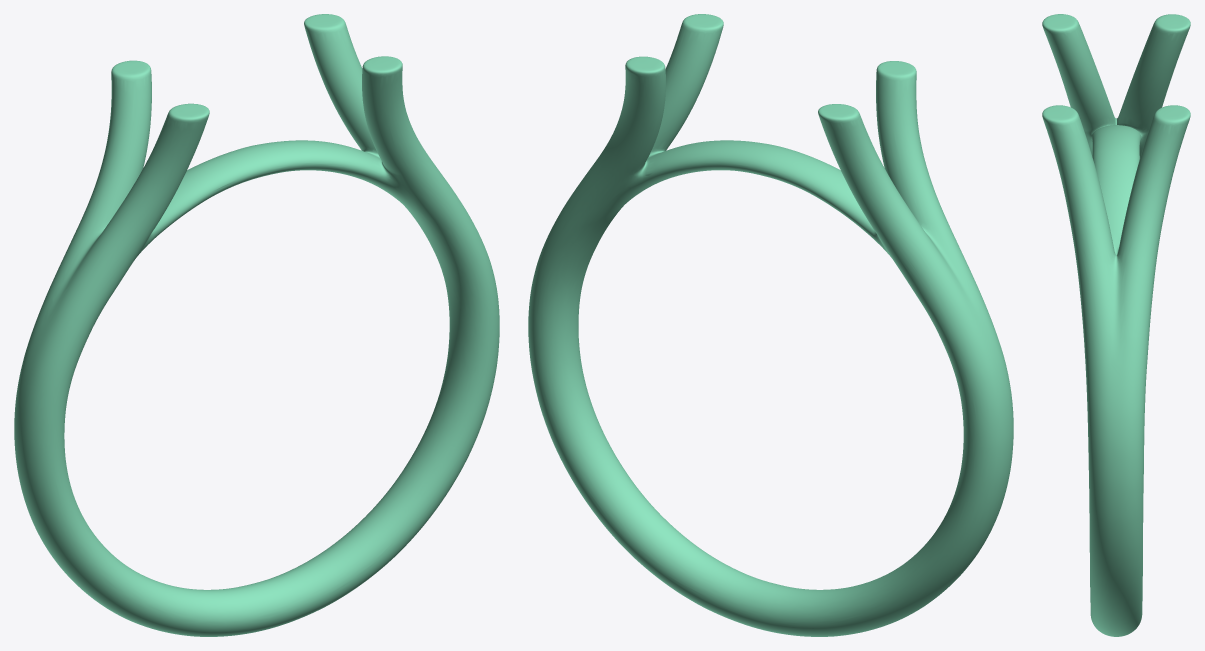
The picture shows the model from 3 angles, left to right: view 1: azimuth 30°, elevation 25°; view 2: azimuth 150°, elevation 25°; view 3: azimuth 270°, elevation 25°; orthographic projection. The views are drawn at different scales.
Parts seen in each view (by area): view 1: Metal02; view 2: Metal02; view 3: Metal02.
Part boxes in pixels (x1=…): Metal02: x1=14, y1=14, x2=499, y2=636; Metal02: x1=528, y1=14, x2=1013, y2=636; Metal02: x1=1042, y1=14, x2=1190, y2=636.
Bounding box in the file's own units: 20.88 × 23.59 × 5.83.
